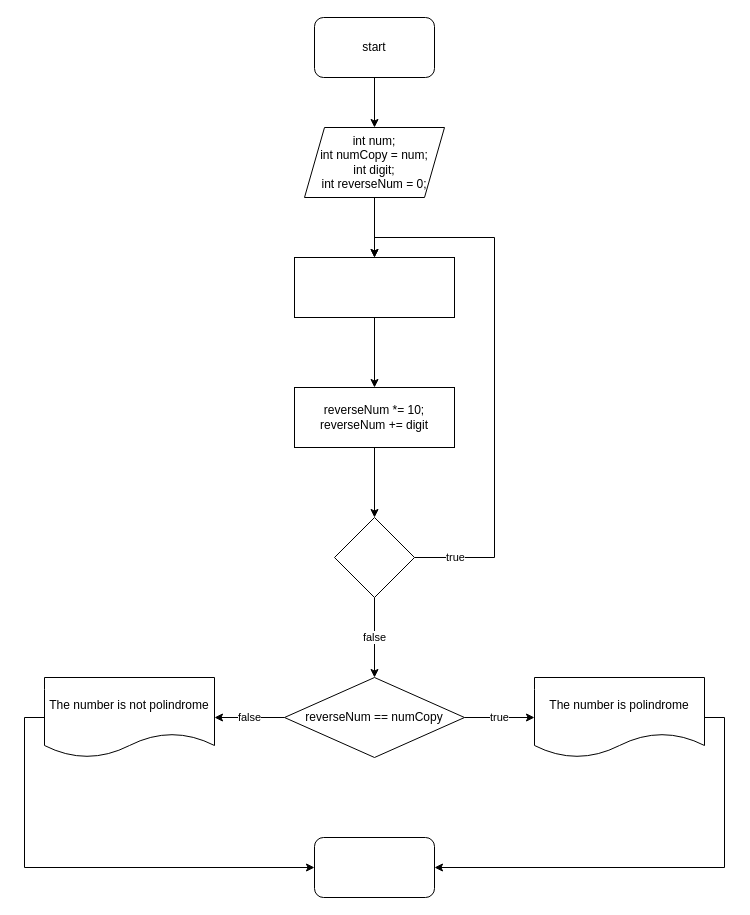
This 750x915 diagram has some shape labels left out. The shapes that lost their labels are listed below. From the top down, each one's centre as x and y in pixels, then its label:
At point (374, 287): "digit = num % 10; num = (num - digit) / 10".
At point (374, 557): "num > 0".
At point (374, 867): "end".
